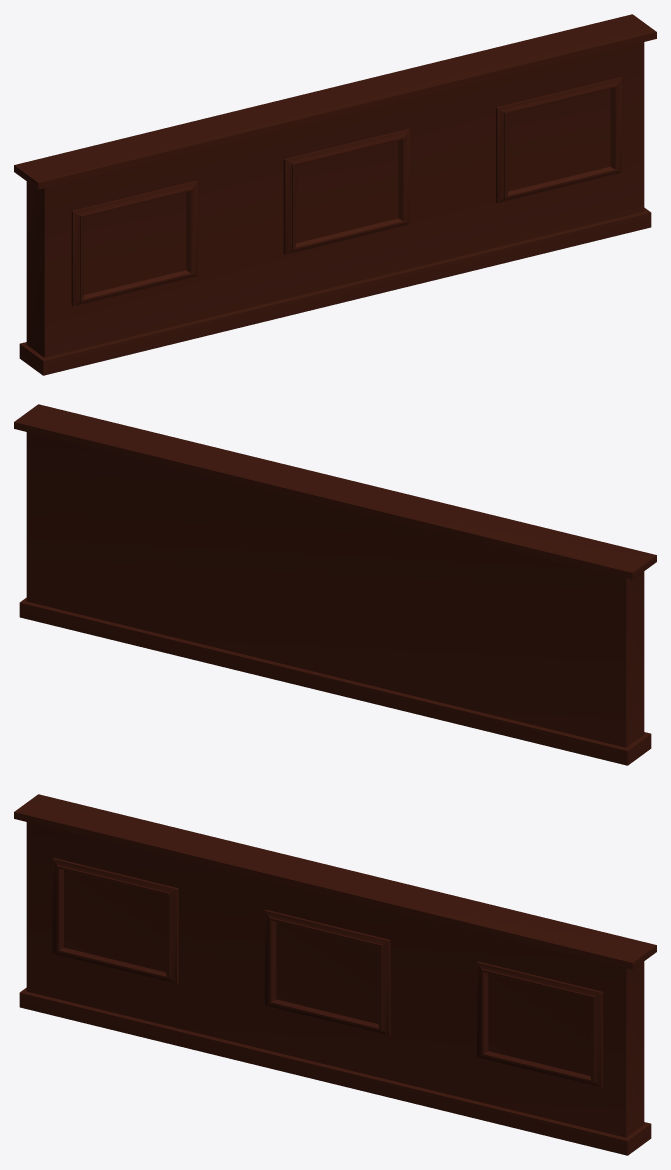
File: Standard_Court_Railing.fbx
The picture shows the model from 3 angles, top to bottom: view 1: azimuth 30°, elevation 25°; view 2: azimuth 150°, elevation 25°; view 3: azimuth 330°, elevation 25°; orthographic projection.
Parts seen in each view (by area): view 1: Standard_Court_Rail; view 2: Standard_Court_Rail; view 3: Standard_Court_Rail.
Part boxes in pixels (left/top/right/bottom): Standard_Court_Rail: left=14, top=14, right=656, bottom=375; Standard_Court_Rail: left=14, top=404, right=656, bottom=765; Standard_Court_Rail: left=14, top=794, right=656, bottom=1155.
Bounding box in the file's own units: 2342 × 703 × 160.
